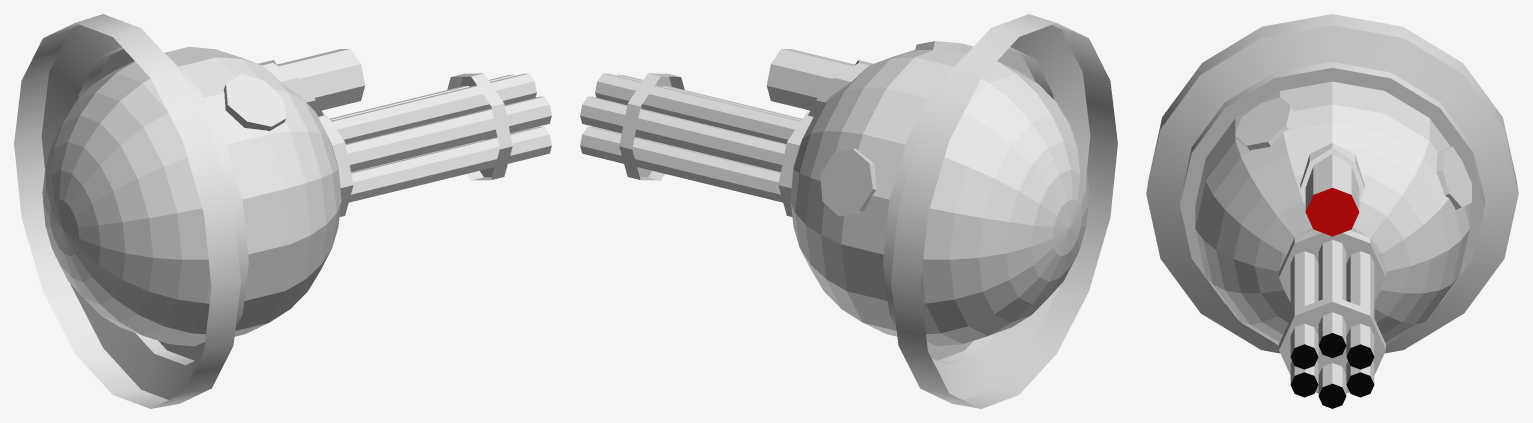
The model's file is Turret.fbx.
The picture shows the model from 3 angles, left to right: view 1: azimuth 30°, elevation 25°; view 2: azimuth 150°, elevation 25°; view 3: azimuth 270°, elevation 25°; orthographic projection. The views are drawn at different scales.
Visible parts, largest first — view 1: Ball, Mount, Gun; view 2: Ball, Mount, Gun; view 3: Ball, Mount, Gun.
Boxes of the visible parts, x1=… form: Ball: x1=42, y1=46, x2=365, y2=346; Mount: x1=14, y1=14, x2=248, y2=408; Gun: x1=318, y1=73, x2=551, y2=216; Ball: x1=766, y1=41, x2=1089, y2=346; Mount: x1=883, y1=14, x2=1117, y2=408; Gun: x1=580, y1=73, x2=813, y2=216; Ball: x1=1195, y1=81, x2=1471, y2=345; Mount: x1=1146, y1=14, x2=1518, y2=353; Gun: x1=1279, y1=230, x2=1385, y2=408.
Bounding box in the file's own units: 360 × 266 × 266.
